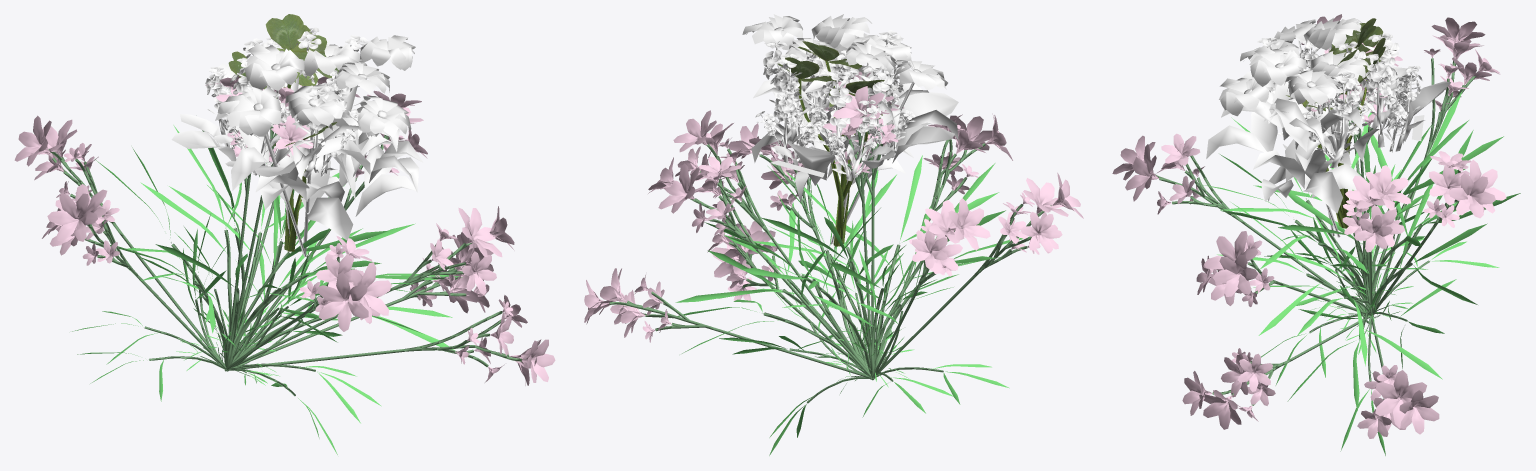
File: plant_flowers.glb
3 renders of one model, left to right at view 1: azimuth 30°, elevation 25°; view 2: azimuth 150°, elevation 25°; view 3: azimuth 270°, elevation 25°, orthographic. The views are drawn at different scales.
Parts seen in each view (by area): view 1: cosmos, jasmine, violet, Clover1, Clover2; view 2: cosmos, violet, jasmine, Clover2, Clover1; view 3: cosmos, jasmine, violet, Clover2, Clover1.
Part boxes in pixels (<box>): cosmos: <box>14,76,555,454</box>; jasmine: <box>215,35,423,256</box>; violet: <box>171,27,369,180</box>; Clover1: <box>265,14,326,249</box>; Clover2: <box>228,25,338,250</box>; cosmos: <box>584,71,1083,455</box>; violet: <box>755,30,958,185</box>; jasmine: <box>742,14,958,244</box>; Clover2: <box>777,57,884,246</box>; Clover1: <box>798,41,862,240</box>; cosmos: <box>1112,14,1520,455</box>; jasmine: <box>1206,18,1368,237</box>; violet: <box>1242,20,1450,167</box>; Clover2: <box>1332,23,1385,227</box>; Clover1: <box>1329,18,1376,228</box>.
Bounding box in the file's own units: 1.23 × 1.08 × 0.9678.
Materials: 19 (1 with a texture image).
